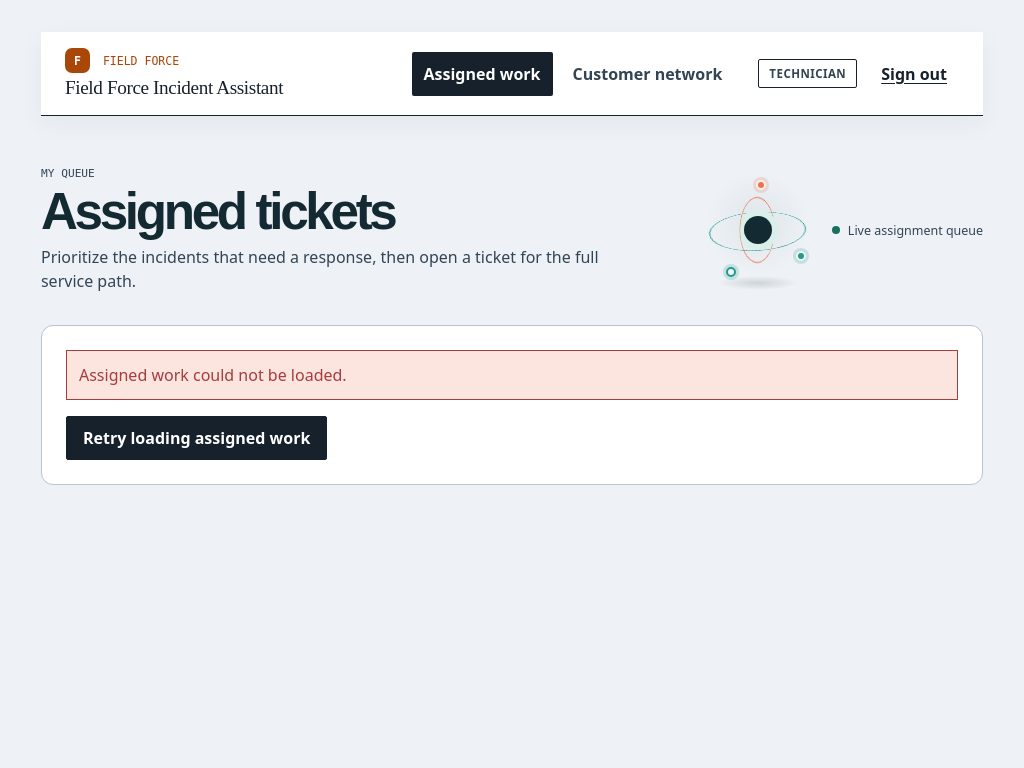
Test: authentication routes › signs out and returns to sign-in from the workspace shell
What coordinates should you click on to do the following:
click the button "Sign out"
I would click on:
 (914, 74)
Its box is [869,52,959,96].
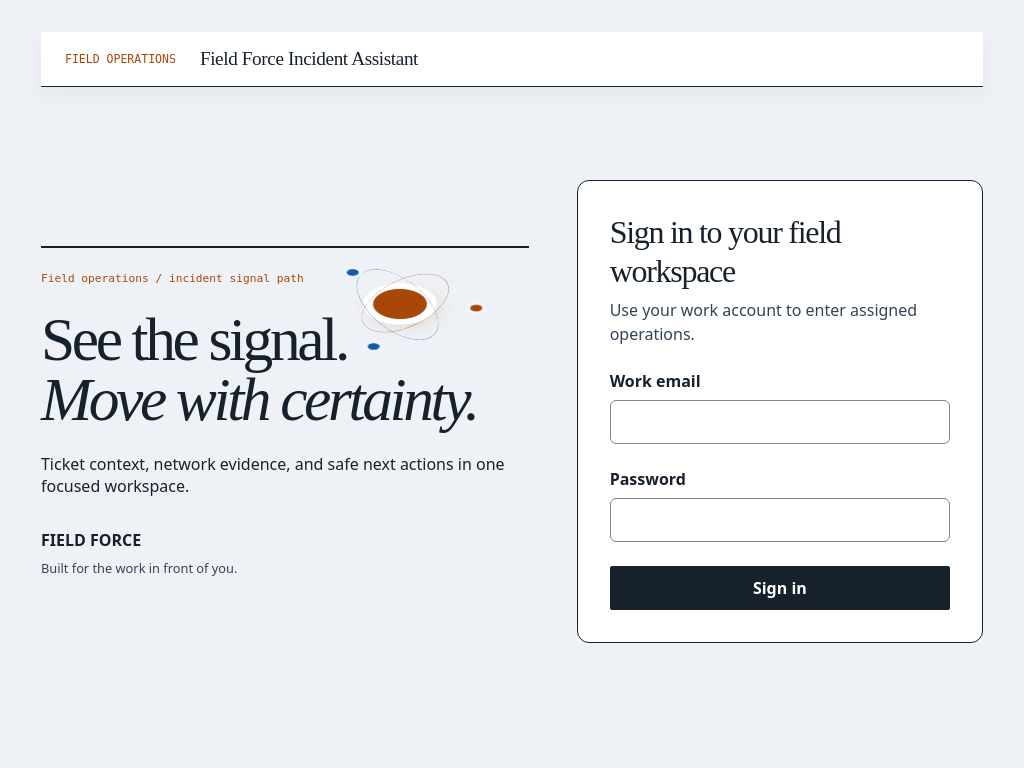
Now the heading "Sign in to your field workspace" is shown, box [610,214,840,288]
